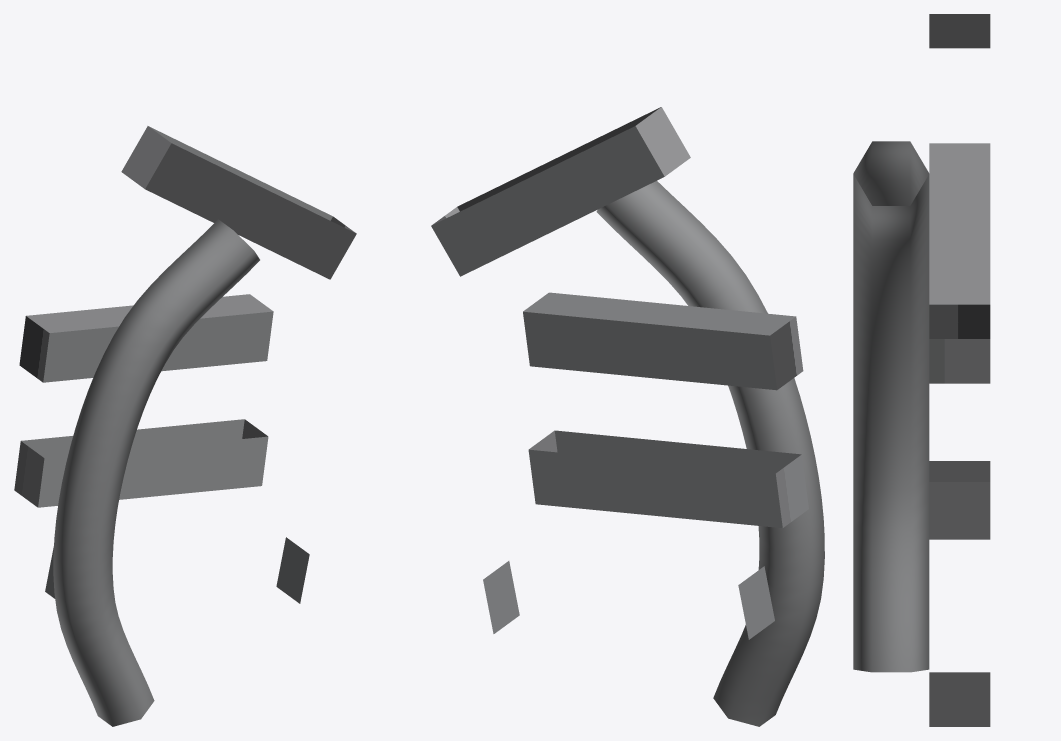
3 views of the same model, side by side, from view 1: azimuth 30°, elevation 25°; view 2: azimuth 150°, elevation 25°; view 3: azimuth 270°, elevation 25° (orthographic). The views are drawn at different scales.
Bounding box in the file's own units: 0.261 × 0.4379 × 0.099.
